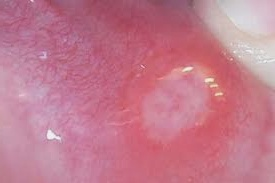Ulcer: (136, 64, 225, 154)
